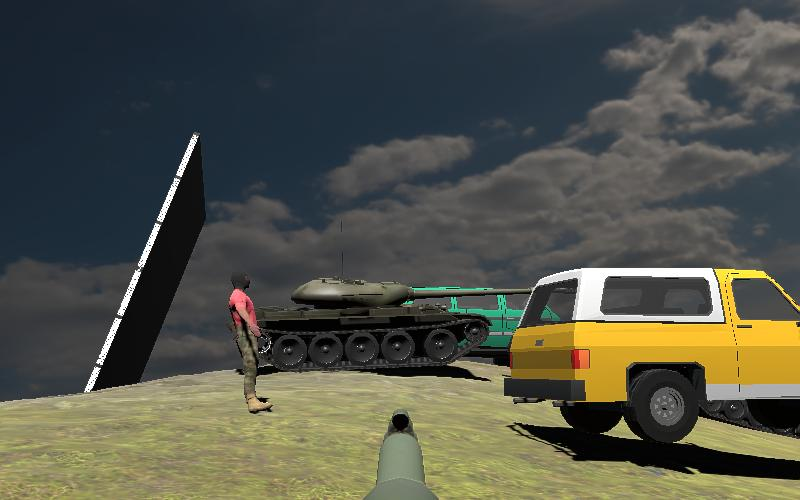Human: (230, 270, 273, 413)
Tank: (226, 276, 551, 374)
car: (502, 267, 800, 446)
